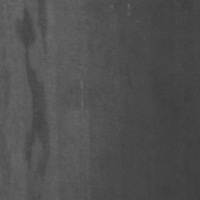inclusion: (17, 1, 61, 198)
